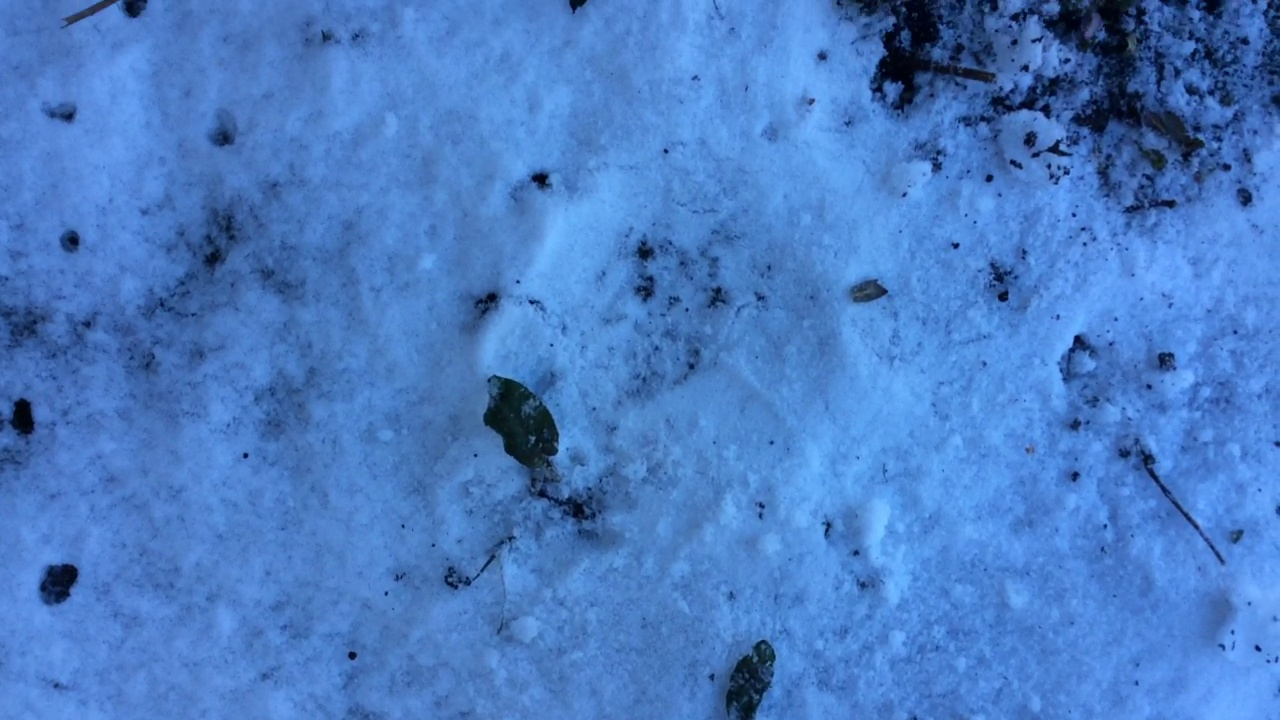root: (528, 480, 571, 515)
rumex: (478, 364, 567, 506), (718, 634, 781, 720)
